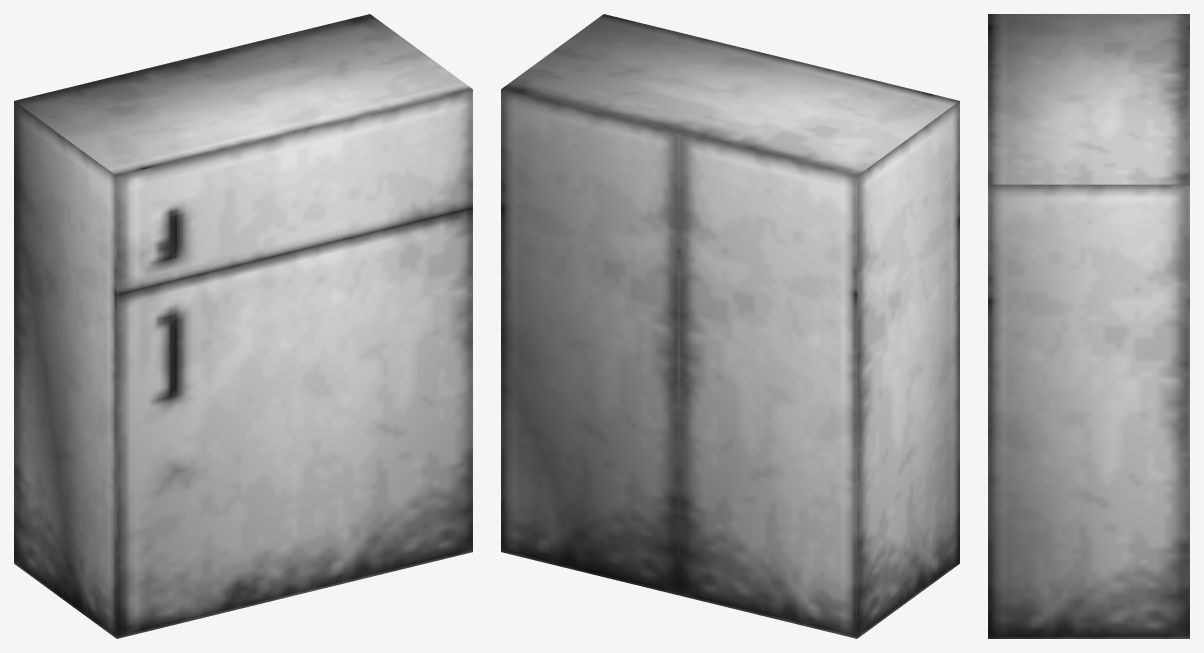
File: fridge64x32.obj
3 views of the same model, side by side, from view 1: azimuth 30°, elevation 25°; view 2: azimuth 150°, elevation 25°; view 3: azimuth 270°, elevation 25° (orthographic).
Parts seen in each view (by area): view 1: fridge; view 2: fridge; view 3: fridge.
Part boxes in pixels (left/top/right/bottom): fridge: left=14, top=14, right=472, bottom=638; fridge: left=501, top=14, right=959, bottom=638; fridge: left=988, top=14, right=1189, bottom=638.
Bounding box in the file's own units: 64 × 79.5 × 32.
